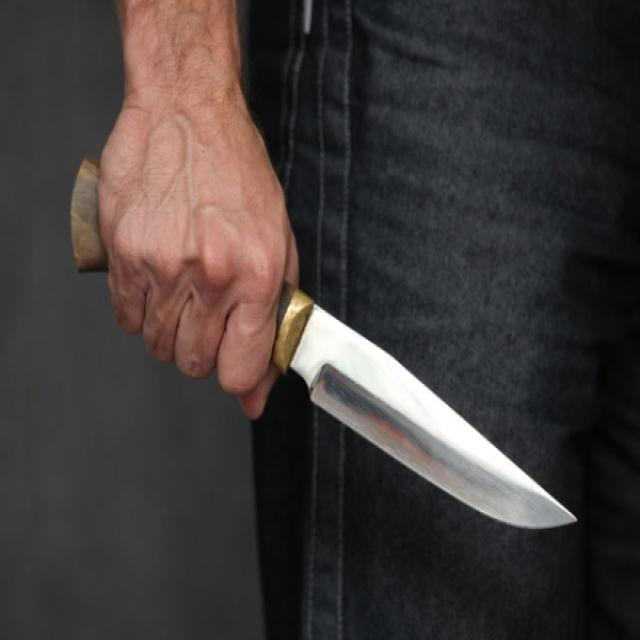knife: (71, 149, 584, 543)
